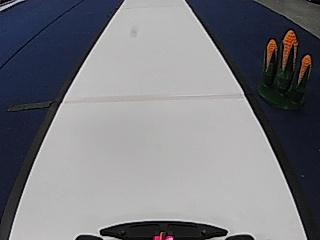corn: (257, 28, 310, 110)
